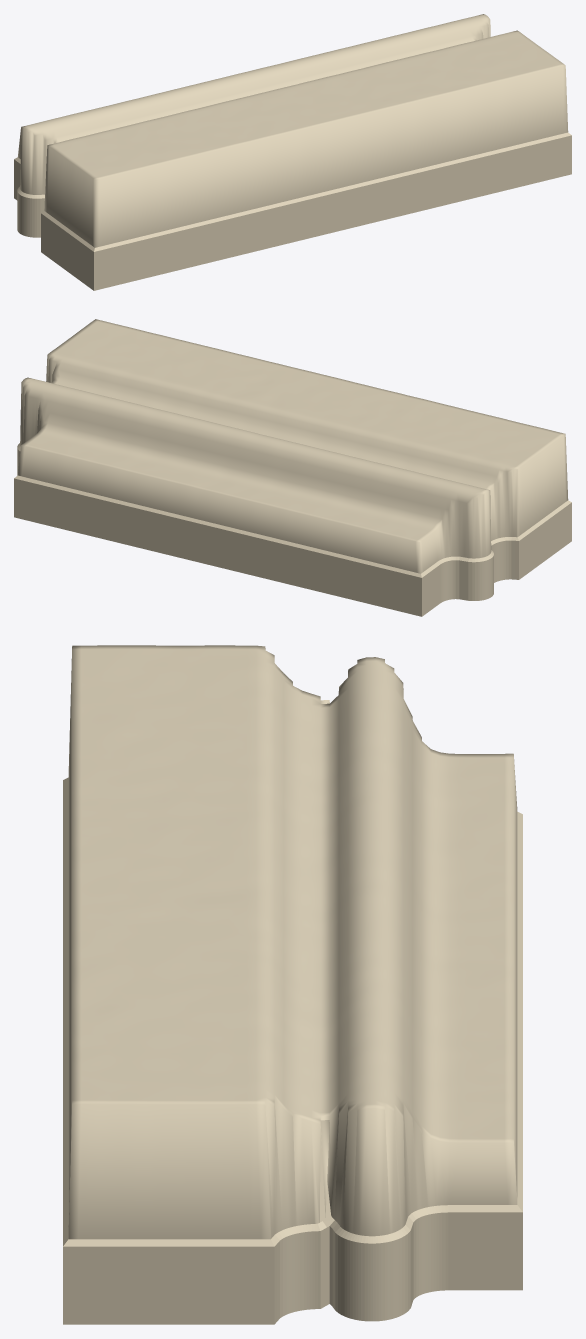
File: mahsulot.glb
3 views of the same model, one above another, from view 1: azimuth 30°, elevation 25°; view 2: azimuth 150°, elevation 25°; view 3: azimuth 270°, elevation 25° (orthographic). The views are drawn at different scales.
Parts seen in each view (by area): view 1: mahsulot; view 2: mahsulot; view 3: mahsulot.
Boxes of the visible parts, <box> form: mahsulot: <box>14,14,571,290</box>; mahsulot: <box>14,319,571,616</box>; mahsulot: <box>63,645,522,1324</box>.
Size of the model in its own units: 0.3 by 0.065 by 0.125.
